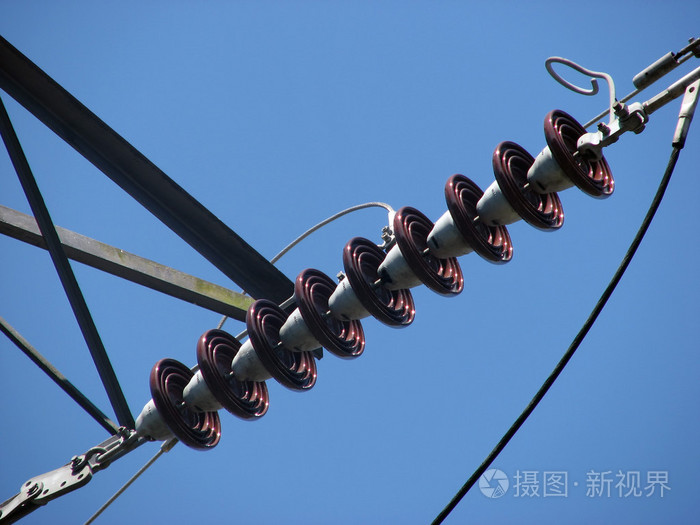insulator: (151, 111, 616, 449)
